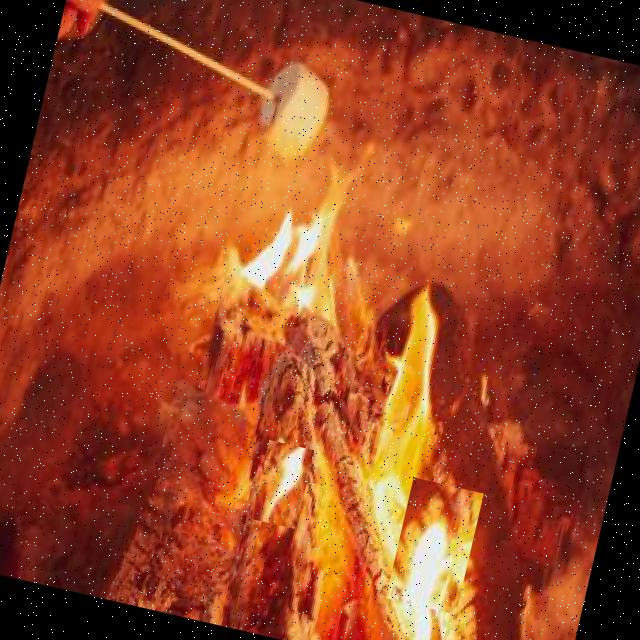fire: (212, 170, 360, 354), (385, 477, 483, 614), (250, 439, 314, 528)
